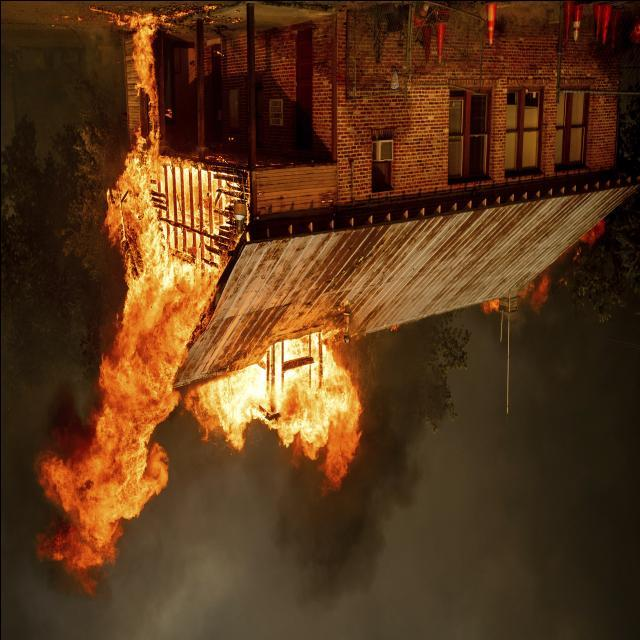Fire: (65, 22, 328, 576)
